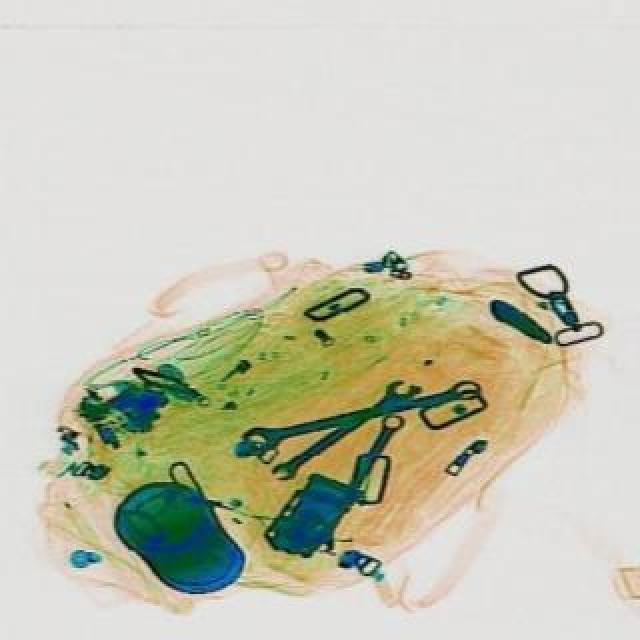scissors: (244, 372, 488, 456), (272, 368, 426, 488), (312, 408, 412, 558)
